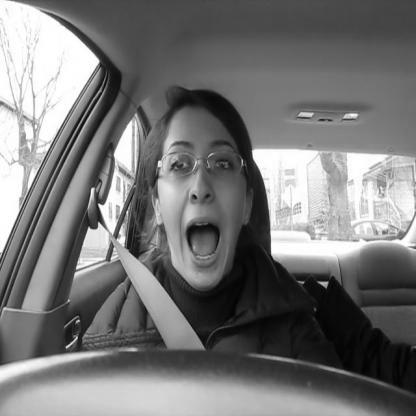seatbelt: (83, 74, 274, 409)
